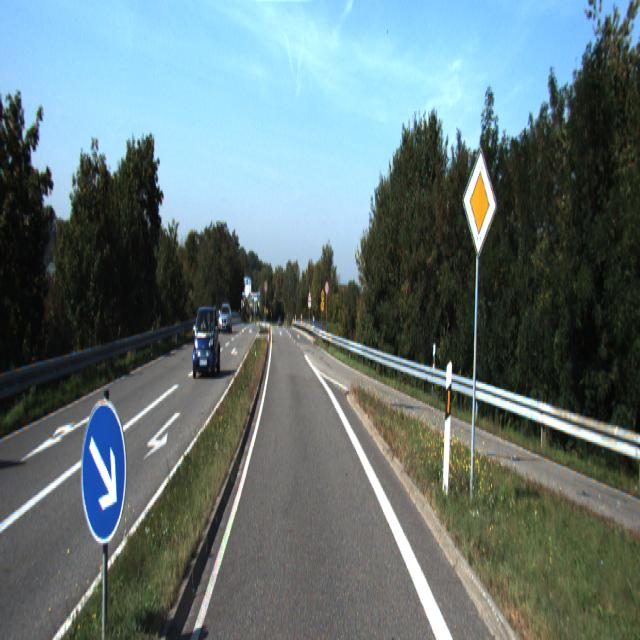Car: (190, 306, 220, 380), (218, 306, 233, 336)
